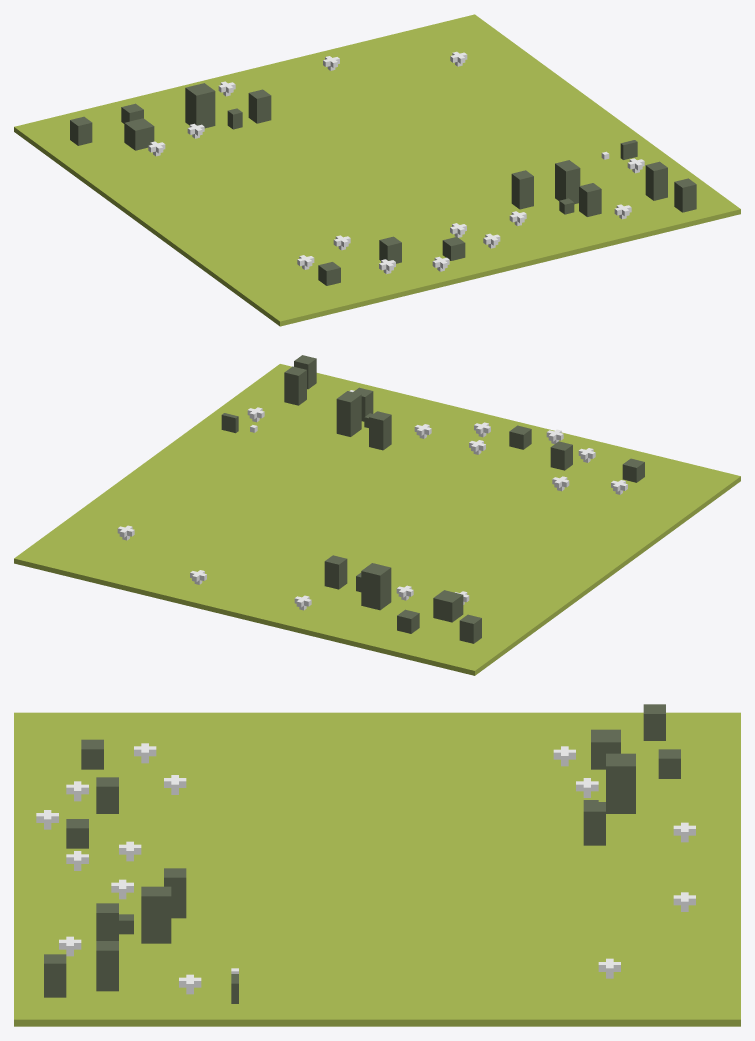
File: monu3.obj
3 views of the same model, one above another, from view 1: azimuth 30°, elevation 25°; view 2: azimuth 150°, elevation 25°; view 3: azimuth 270°, elevation 25° (orthographic). The views are drawn at different scales.
Bounding box in the file's own units: 9.7 × 0.8 × 9.7.
Materials: 1 (1 with a texture image).
